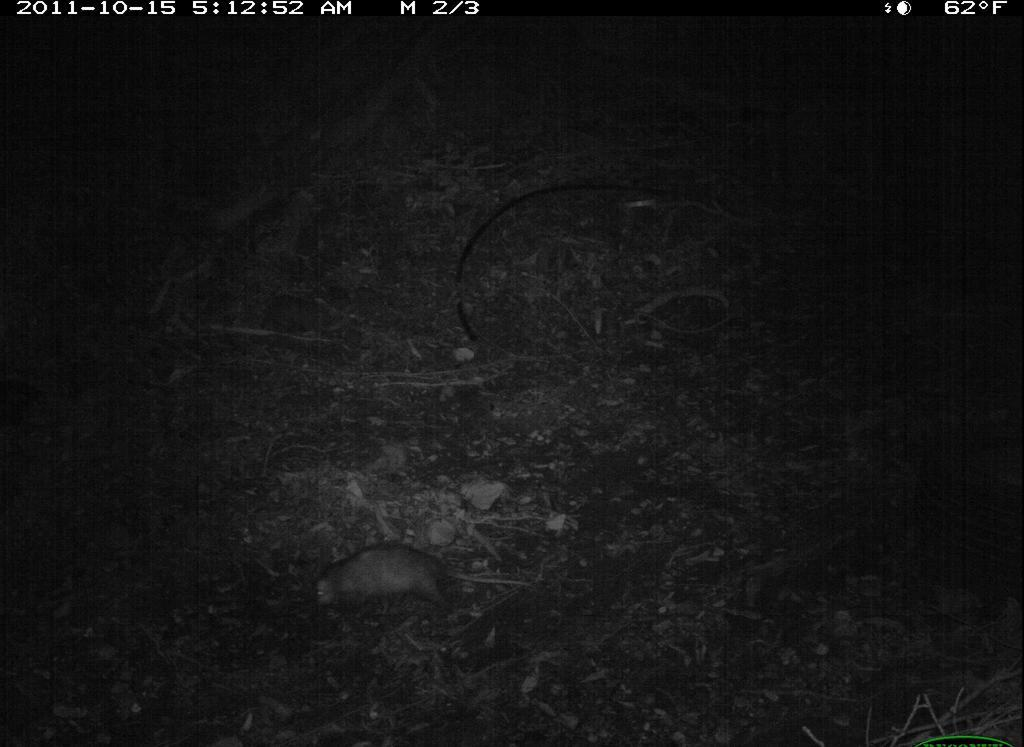opossum: (306, 536, 534, 620)
